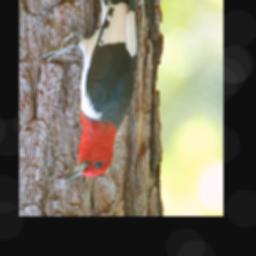Woodpecker: (41, 0, 139, 182)
